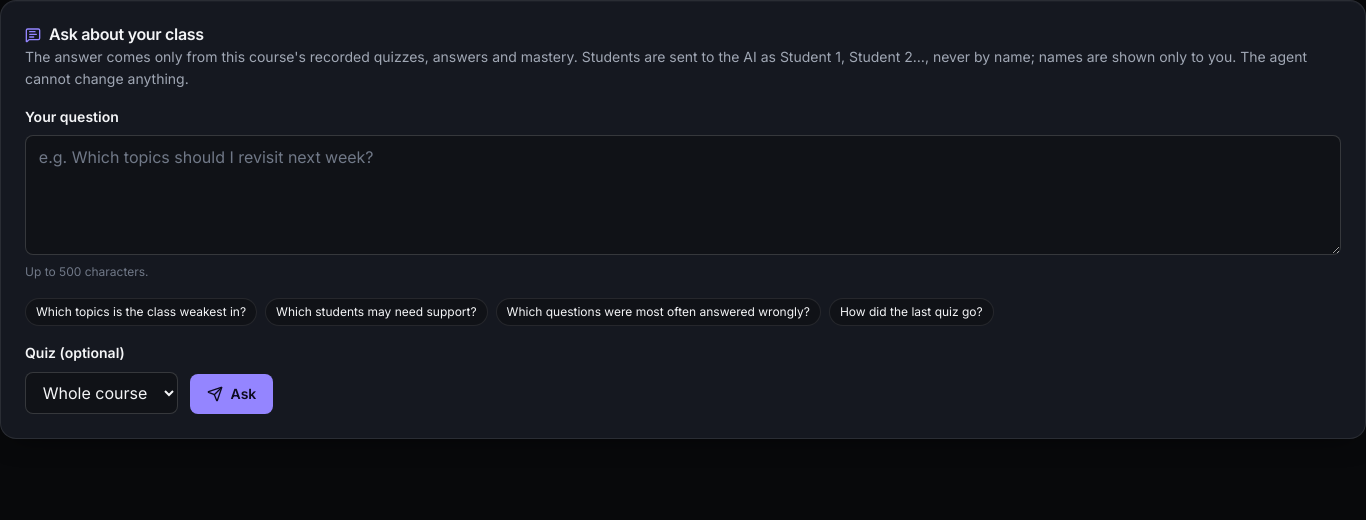
it: Ask about your class › shows an error without losing the question
The width and height of the screenshot is (1366, 520).
Type "Hello there" into the text box labelled "Your question" at (683, 195), box x1=25 y1=135 x2=1341 y2=255
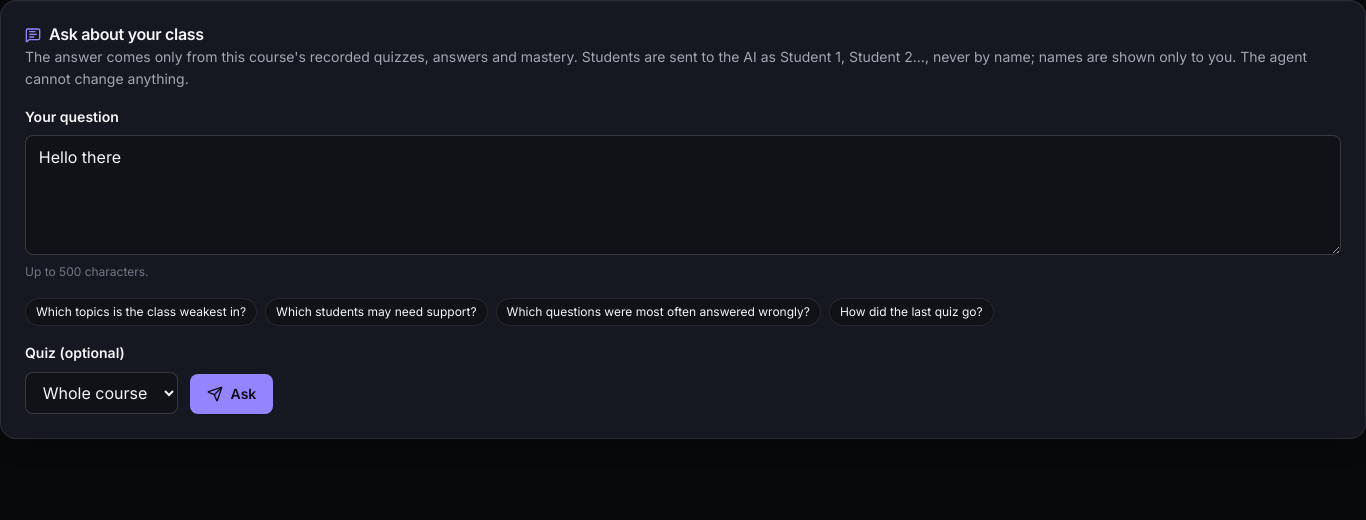
Click the button "Ask" at (232, 394), box x1=190 y1=374 x2=273 y2=414
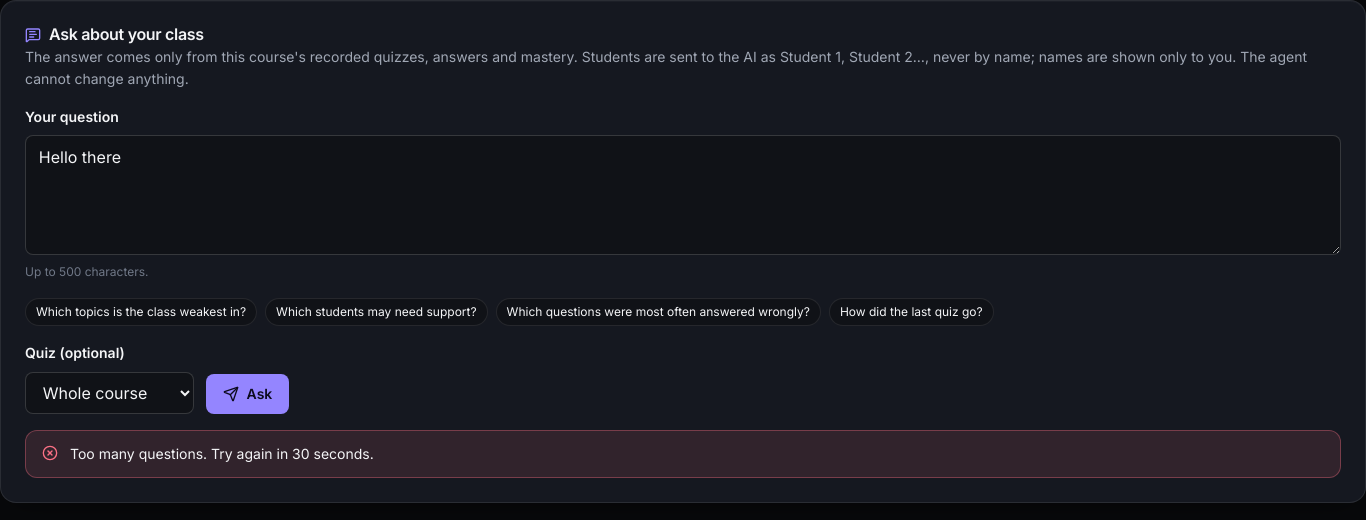
Expected: the text "Too many questions. Try again in 30 seconds." is shown, x1=70 y1=445 x2=374 y2=462
